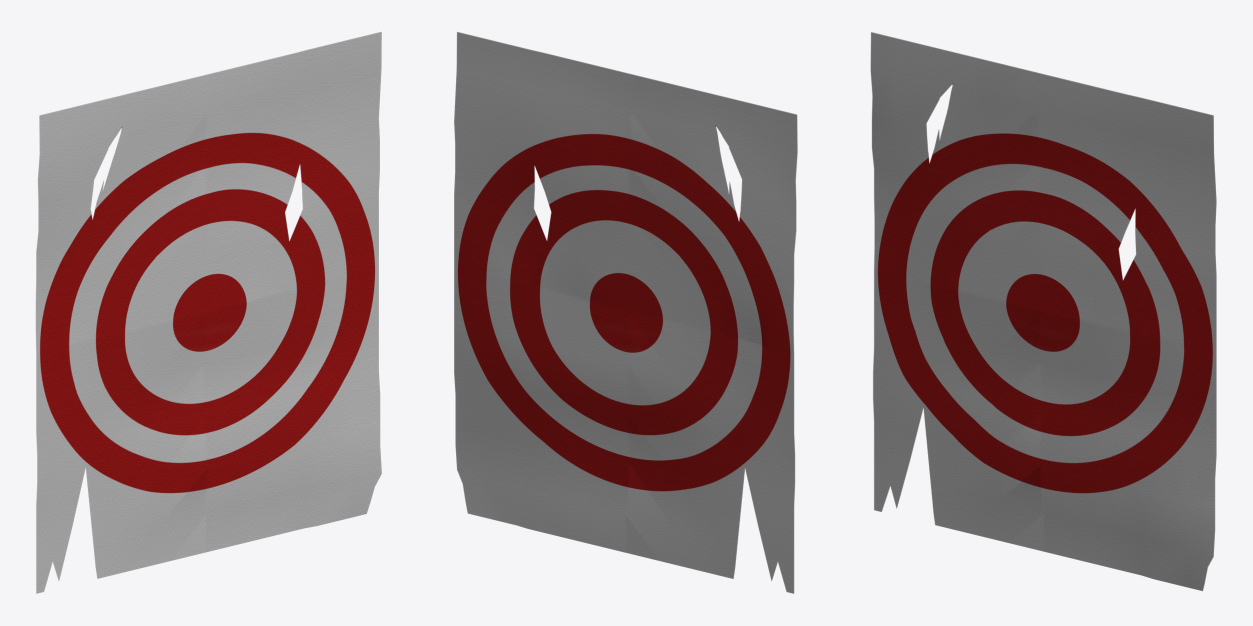
File: poster_in_4.glb
3 renders of one model, left to right at view 1: azimuth 30°, elevation 25°; view 2: azimuth 150°, elevation 25°; view 3: azimuth 330°, elevation 25°, orthographic.
Visible parts, largest first — view 1: lower_right, upper_right, upper_left, lower_left; view 2: lower_right, upper_right, upper_left, lower_left; view 3: lower_right, upper_right, upper_left, lower_left.
Part boxes in pixels (x1,y1,x2,y2): lower_right: (201,263,381,552); upper_right: (202,32,381,309); upper_left: (36,76,208,350); lower_left: (36,311,206,593); lower_right: (454,266,633,552); upper_right: (454,32,635,307); upper_left: (627,75,797,352); lower_left: (626,310,794,593); lower_right: (1035,307,1216,590); upper_right: (1033,72,1216,346); upper_left: (870,32,1041,308); lower_left: (873,267,1043,551).
Bounding box in the file's own units: 0.8 × 0.9997 × 0.0208.
1 material, 1 textured.
